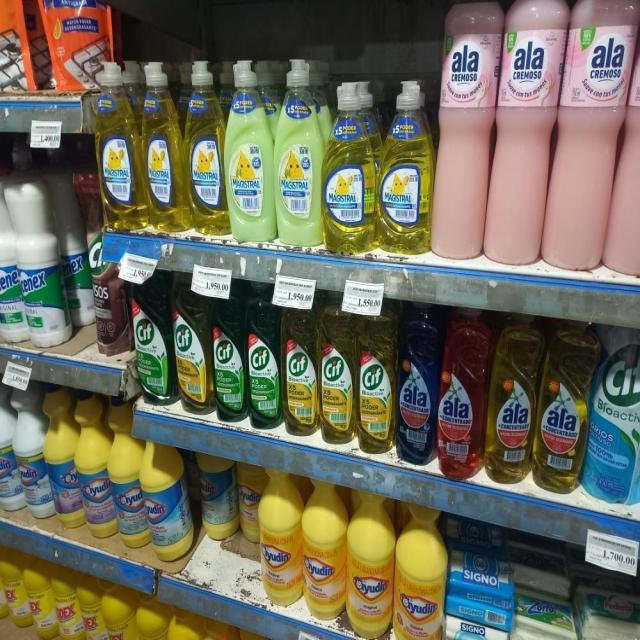ala_conc_amarillo: (536, 322, 588, 495), (487, 313, 534, 485)
ala_conc_azul: (396, 303, 437, 467)
ala_conc_rojo: (438, 305, 486, 482)
ala_crem_rosado: (553, 0, 632, 275), (493, 1, 559, 268), (435, 1, 494, 264), (620, 0, 640, 279)
cif_conc_bot_amarilla: (356, 298, 394, 455), (319, 292, 355, 444), (282, 290, 318, 437), (174, 274, 211, 415)
cif_conc_botella_verde: (132, 266, 172, 406), (246, 281, 281, 430), (213, 278, 245, 423)
magistral_con_amarillo: (323, 78, 377, 255), (379, 79, 432, 255), (97, 61, 141, 230), (143, 59, 183, 233), (186, 58, 224, 237)
magistral_con_crema: (275, 58, 321, 247), (226, 58, 273, 242)
